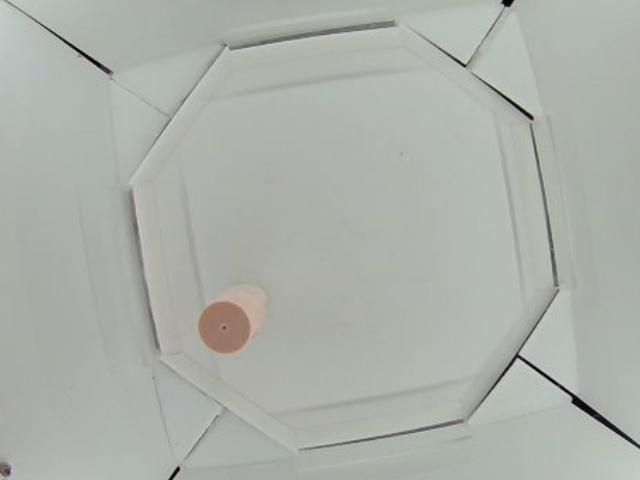Bottle: (198, 284, 268, 356)
